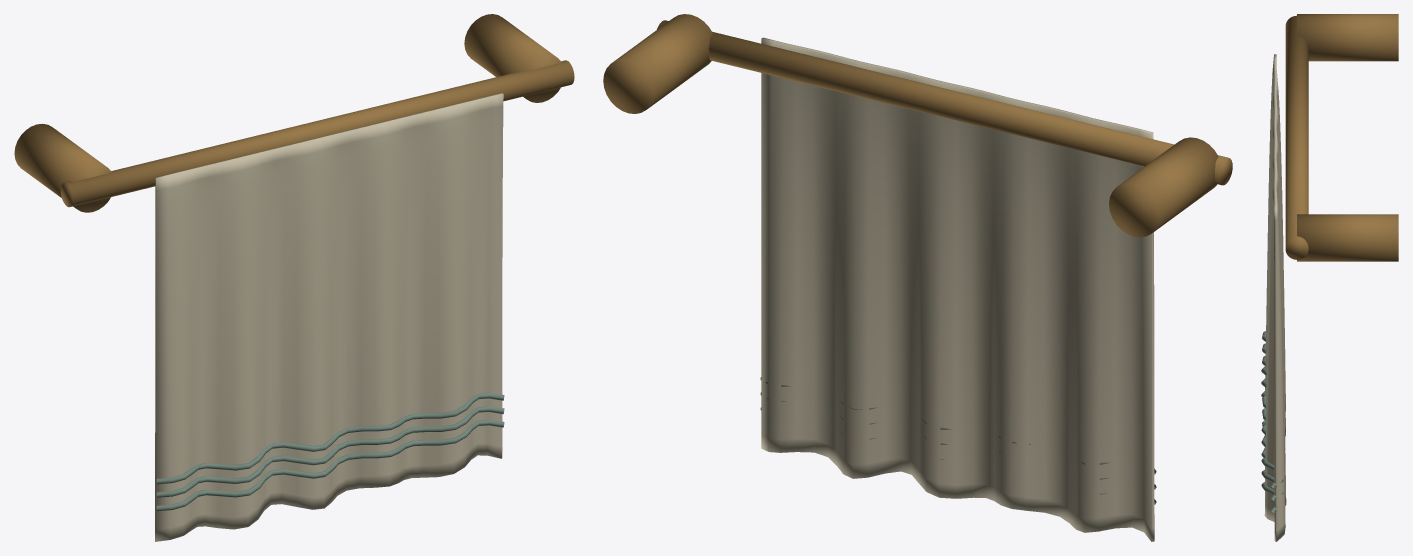
Rendered from towel-rack.glb.
The picture shows the model from 3 angles, left to right: view 1: azimuth 30°, elevation 25°; view 2: azimuth 150°, elevation 25°; view 3: azimuth 270°, elevation 25°; orthographic projection. The views are drawn at different scales.
Parts seen in each view (by area): view 1: towel-rack__Old_cotton, towel-rack__Aged_brass, towel-rack__Cotton_border; view 2: towel-rack__Old_cotton, towel-rack__Aged_brass; view 3: towel-rack__Aged_brass, towel-rack__Old_cotton, towel-rack__Cotton_border.
Part boxes in pixels (box(x1,y1,x2,y2)): towel-rack__Old_cotton: box(155, 93, 503, 541); towel-rack__Aged_brass: box(14, 14, 574, 212); towel-rack__Cotton_border: box(156, 393, 504, 511); towel-rack__Old_cotton: box(761, 37, 1154, 541); towel-rack__Aged_brass: box(603, 14, 1232, 237); towel-rack__Aged_brass: box(1285, 14, 1398, 261); towel-rack__Old_cotton: box(1264, 54, 1286, 541); towel-rack__Cotton_border: box(1261, 331, 1285, 512).
Size of the model in its own units: 0.78 by 0.5709 by 0.2029.
